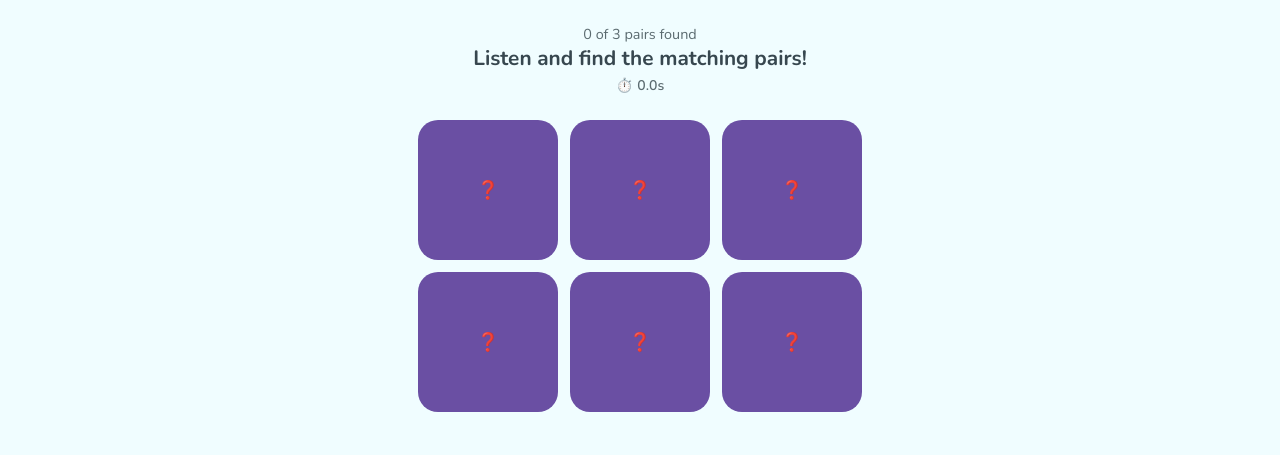
it: SoundMemoryMatchGame › stops the final flip sound when the results screen appears (issue #52 precedent)
The width and height of the screenshot is (1280, 455).
Click the 1st button "❓" at (488, 190), box x1=418 y1=120 x2=558 y2=260
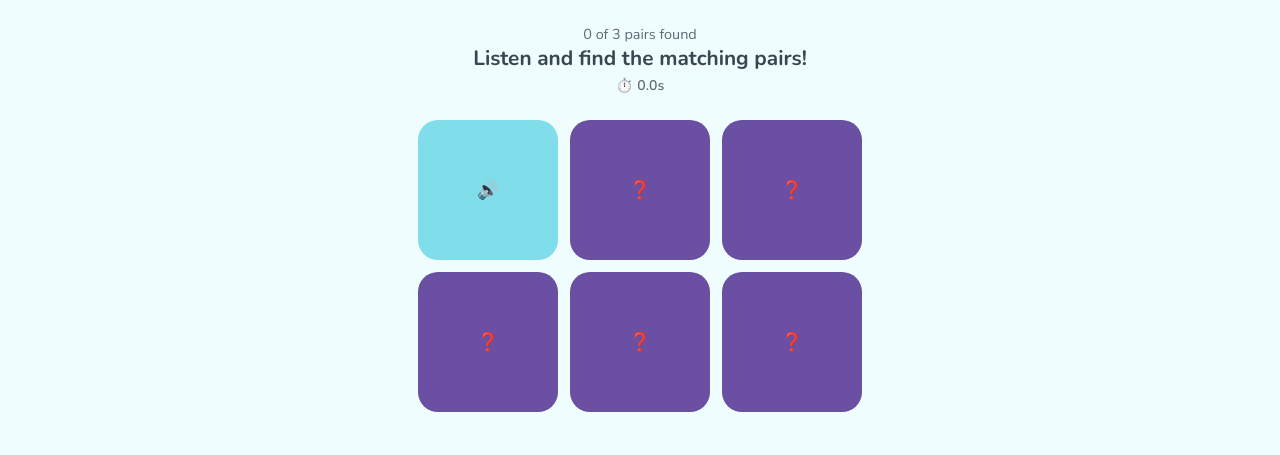
Click the 1st button "❓" at (640, 190), box x1=570 y1=120 x2=710 y2=260
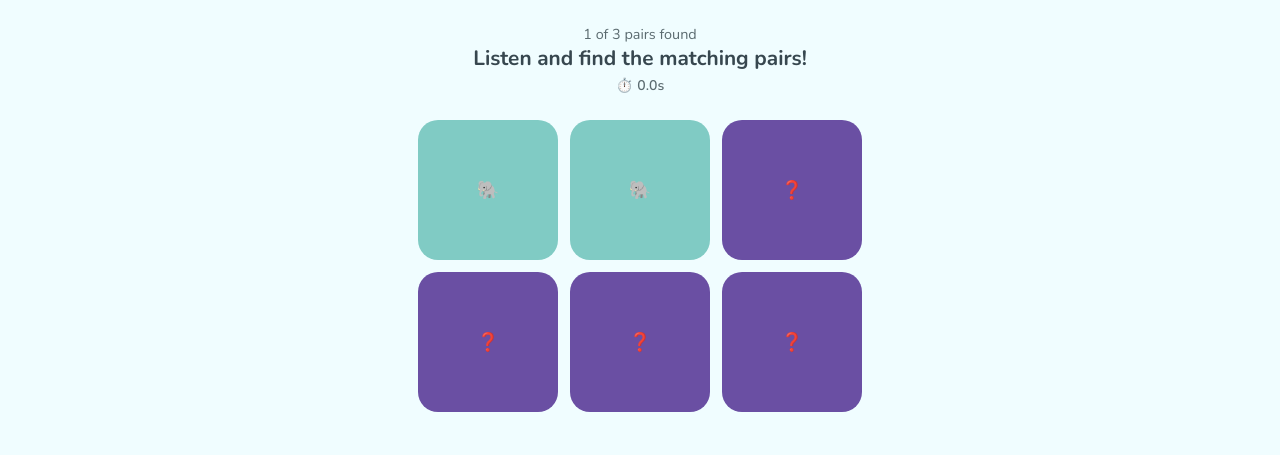
Click the 1st button "❓" at (792, 190), box x1=722 y1=120 x2=862 y2=260
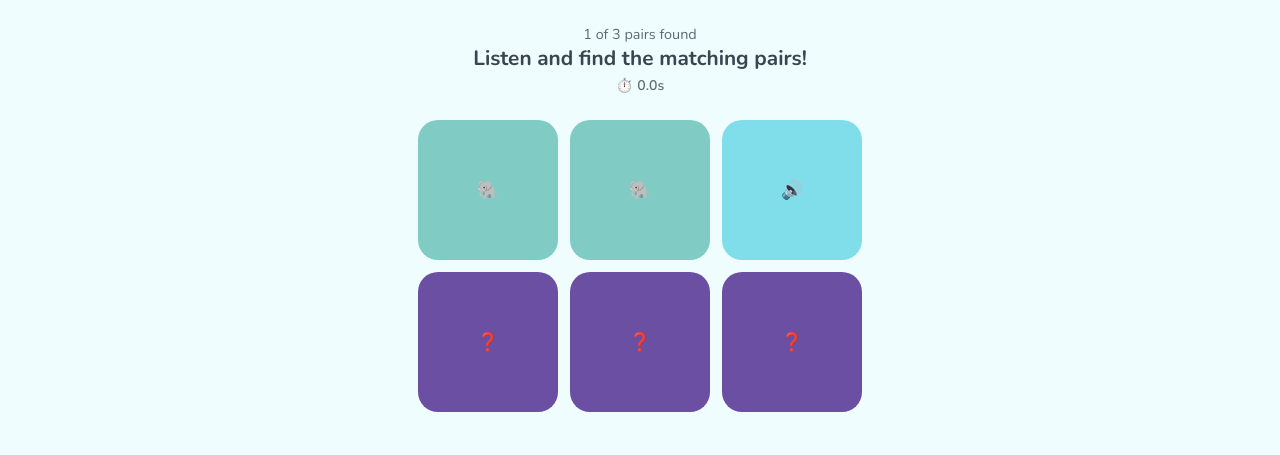
Click the 1st button "❓" at (488, 342), box x1=418 y1=272 x2=558 y2=412
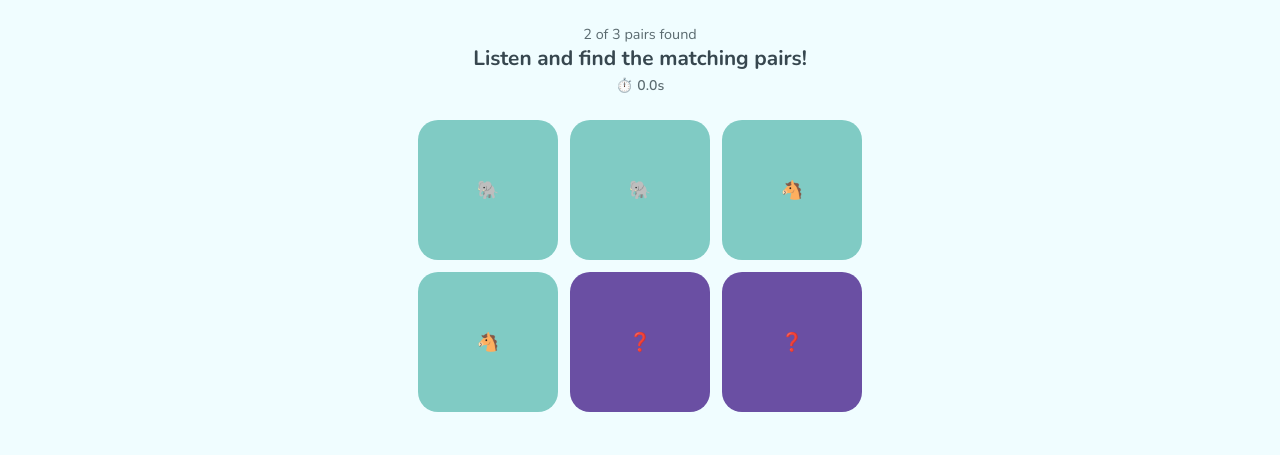
Click the 1st button "❓" at (640, 342), box x1=570 y1=272 x2=710 y2=412
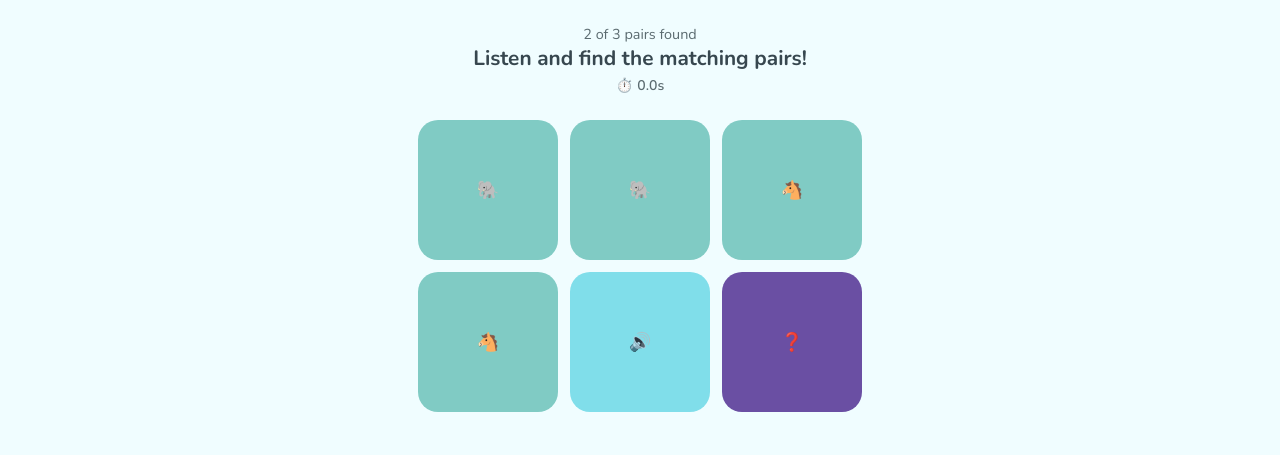
Click the button "❓" at (792, 342), box x1=722 y1=272 x2=862 y2=412
Wait 2100 ms
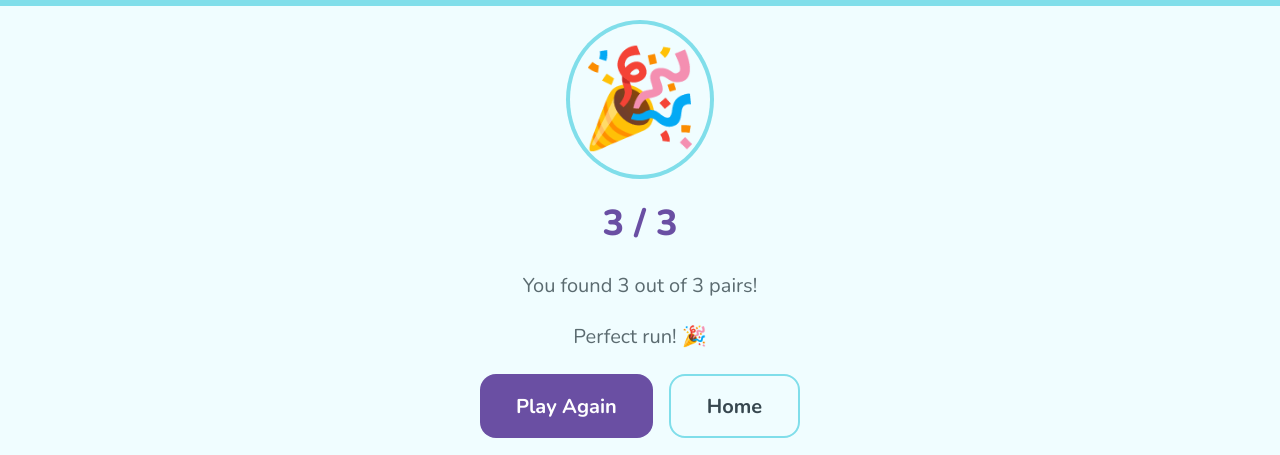
Expected: the text "You found 3 out of 3 pairs!" is shown, x1=523 y1=272 x2=757 y2=299
